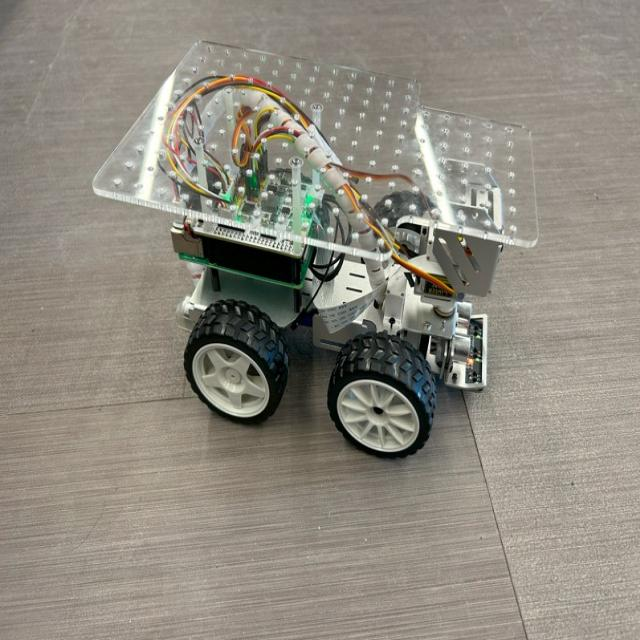vehicle: (67, 9, 561, 501)
